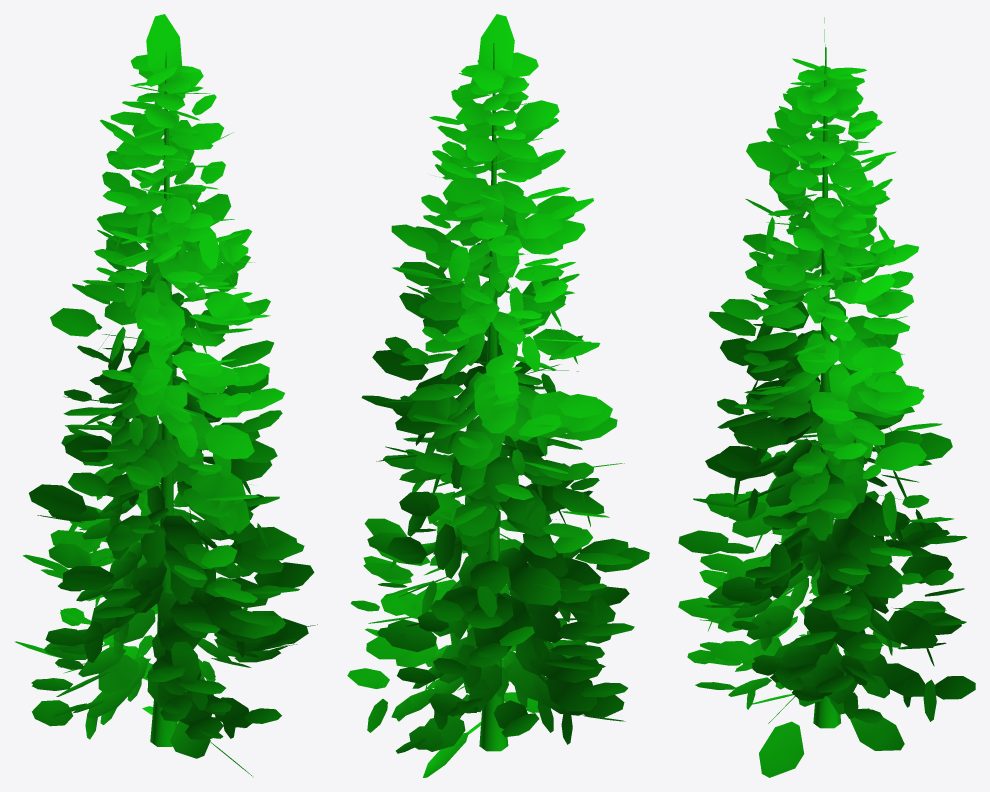
Rendered from tree_spruce_b_lod1.glb.
3 views of the same model, side by side, from view 1: azimuth 30°, elevation 25°; view 2: azimuth 150°, elevation 25°; view 3: azimuth 270°, elevation 25° (orthographic). The views are drawn at different scales.
Parts seen in each view (by area): view 1: tree_spruce_b_lod1.2, tree_spruce_b_lod1.0, tree_spruce_b_lod1.1; view 2: tree_spruce_b_lod1.2, tree_spruce_b_lod1.0, tree_spruce_b_lod1.1; view 3: tree_spruce_b_lod1.2, tree_spruce_b_lod1.1, tree_spruce_b_lod1.0.
Part boxes in pixels (x1,y1,x2,y2): tree_spruce_b_lod1.2: (14,14,317,740); tree_spruce_b_lod1.0: (150,50,244,746); tree_spruce_b_lod1.1: (142,706,253,777); tree_spruce_b_lod1.2: (347,14,649,753); tree_spruce_b_lod1.0: (479,43,508,751); tree_spruce_b_lod1.1: (423,686,538,777); tree_spruce_b_lod1.2: (678,17,975,723); tree_spruce_b_lod1.1: (752,694,904,777); tree_spruce_b_lod1.0: (768,47,840,728).
Bounding box in the file's own units: 7.69 × 20.63 × 7.61.
